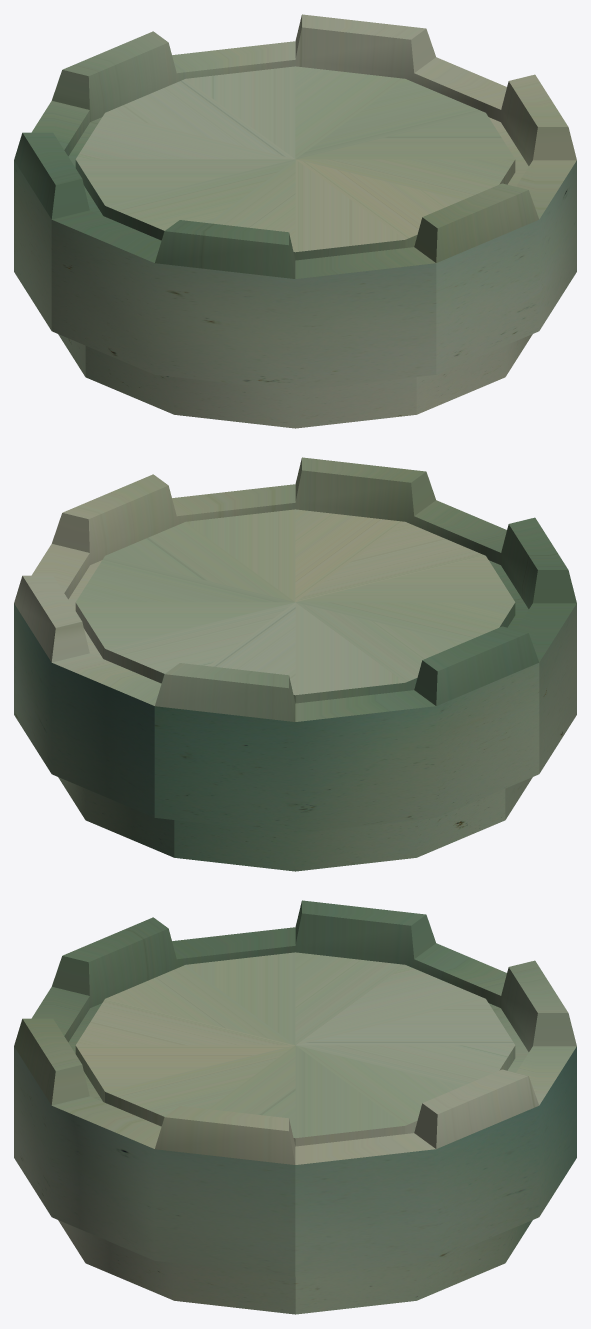
File: VentanaModel.fbx
The picture shows the model from 3 angles, top to bottom: view 1: azimuth 30°, elevation 25°; view 2: azimuth 150°, elevation 25°; view 3: azimuth 270°, elevation 25°; orthographic projection.
Parts seen in each view (by area): view 1: VentanChikito; view 2: VentanChikito; view 3: VentanChikito.
Part boxes in pixels (left/top/right/bottom): VentanChikito: left=14, top=14, right=576, bottom=428; VentanChikito: left=14, top=457, right=576, bottom=871; VentanChikito: left=14, top=900, right=576, bottom=1314.
Bounding box in the file's own units: 842 × 324 × 842.
